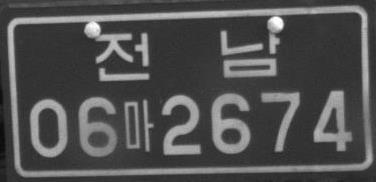0: (29, 98, 68, 158)
2: (162, 93, 201, 156)
4: (312, 89, 354, 151)
6: (210, 92, 252, 154), (77, 95, 118, 158)
7: (260, 91, 302, 153)
마: (122, 98, 154, 152)
전남_D: (94, 28, 281, 80)
